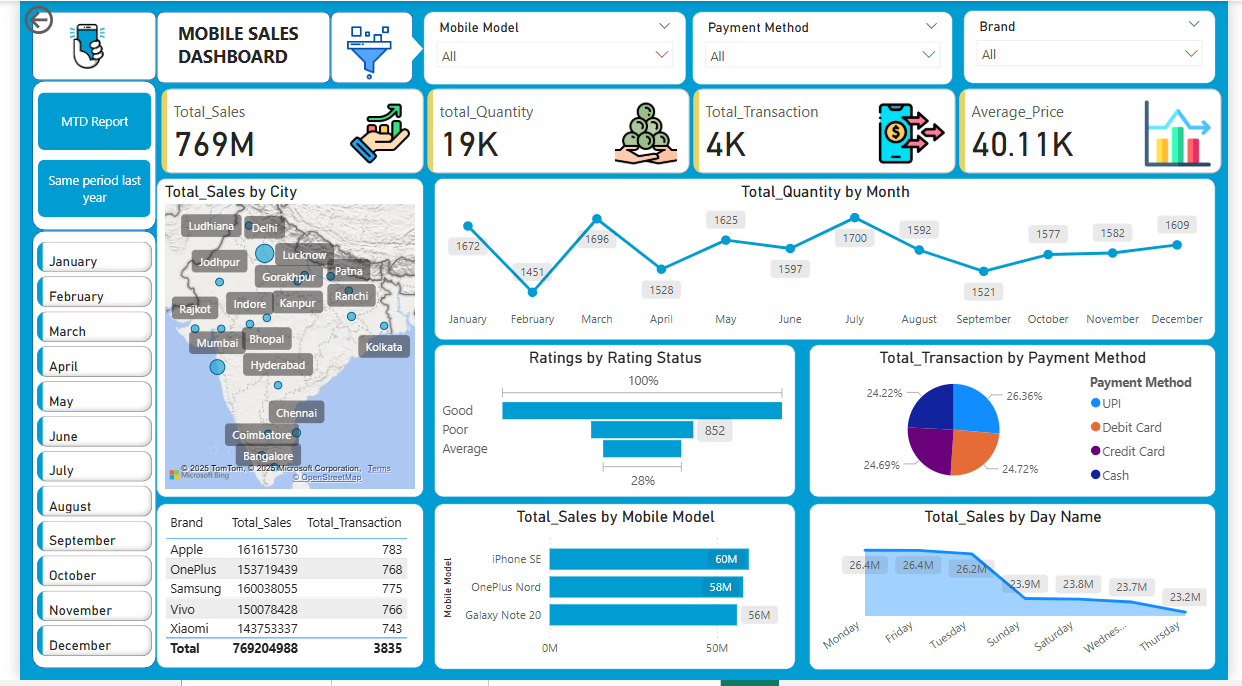

This screenshot's page, from the dashboard's own definition file:
{"tool":"powerbi","page":{"name":"Dashboard","canvas":[1280,720],"ordinal":0},"visuals":[{"type":"shape","box":[12.7,11.1,132,73.2],"z":0},{"type":"image","box":[12.7,11.1,117.7,73.2],"z":1000},{"type":"shape","box":[12.7,84.3,132,159.1],"z":2000},{"type":"shape","box":[12.7,243.4,132,464.5],"z":3000},{"type":"advancedSlicerVisual","fields":{"Values":["custom_calendar.Date.Variation.Date Hierarchy.Month"]},"box":[12.7,249.7,132,458.1],"z":4000},{"type":"cardVisual","fields":{"Data":["Mobile _Sales_ Data.Total_Sales","Mobile _Sales_ Data.total_Quantity","Mobile _Sales_ Data.Total_Transaction","Mobile _Sales_ Data.Average_Price"]},"box":[144.7,87.5,1135.7,100.2],"z":5000},{"type":"slicer","fields":{"Values":["Mobile _Sales_ Data.Mobile Model"]},"box":[427.9,11.1,278.4,77.9],"z":6000},{"type":"slicer","fields":{"Values":["Mobile _Sales_ Data.Payment Method"]},"box":[712.6,11.1,276.8,77.9],"z":7000},{"type":"slicer","fields":{"Values":["Mobile _Sales_ Data.Brand"]},"box":[1000.5,9.5,267.2,77.9],"z":8000},{"type":"shape","box":[329.3,11.1,87.5,76.3],"z":9000},{"type":"image","box":[313.4,20.7,114.5,68.4],"z":10000},{"type":"shape","box":[396.1,33.4,31.8,35],"z":11000},{"type":"shape","box":[144.7,11.1,184.5,76.3],"z":12000},{"type":"textbox","box":[162.2,15.9,149.5,65.2],"z":13000},{"type":"map","fields":{"Category":["Mobile _Sales_ Data.City"],"Size":["Mobile _Sales_ Data.Total_Sales"]},"box":[144.7,187.7,283.1,338.8],"z":14000},{"type":"lineChart","title":"Total_Quantity by Month","fields":{"Category":["custom_calendar.Date.Variation.Date Hierarchy.Month"],"Y":["Mobile _Sales_ Data.total_Quantity"]},"box":[439,187.7,828.7,171.8],"z":15000},{"type":"funnel","title":"Ratings by Rating Status","fields":{"Y":["CountNonNull(Mobile _Sales_ Data.Customer Ratings)"],"Category":["Mobile _Sales_ Data.Rating Status"]},"box":[439,364.2,383.3,162.2],"z":16000},{"type":"pieChart","fields":{"Y":["Mobile _Sales_ Data.Total_Transaction"],"Category":["Mobile _Sales_ Data.Payment Method"]},"box":[836.7,364.2,431.1,162.2],"z":17000},{"type":"clusteredBarChart","fields":{"Y":["Mobile _Sales_ Data.Total_Sales"],"Category":["Mobile _Sales_ Data.Mobile Model"]},"box":[438.4,532.9,383.6,175.7],"z":18000},{"type":"areaChart","fields":{"Category":["custom_calendar.Day Name"],"Y":["Mobile _Sales_ Data.Total_Sales"]},"box":[836.7,532.9,431.1,176.6],"z":19000},{"type":"tableEx","fields":{"Values":["Mobile _Sales_ Data.Brand","Mobile _Sales_ Data.Total_Sales","Mobile _Sales_ Data.Total_Transaction"]},"box":[144.7,532.9,283.1,175],"z":20000},{"type":"actionButton","box":[0,0,100,40],"z":21000},{"type":"pageNavigator","box":[19.1,97,120.9,133.6],"z":22000}]}

Visuals, with their boxes in screenshot pixels (x1, y1, x2, y2), scaled from the page's 1280x720 canvas onto the 1242x686 screenshot:
shape: select_region(12, 11, 140, 80)
image: select_region(12, 11, 127, 80)
shape: select_region(12, 80, 140, 232)
shape: select_region(12, 232, 140, 674)
advancedSlicerVisual - custom_calendar.Date.Variation.Date Hierarchy.Month: select_region(12, 238, 140, 674)
cardVisual - Mobile _Sales_ Data.Total_Sales x Mobile _Sales_ Data.total_Quantity: select_region(140, 83, 1241, 179)
slicer - Mobile _Sales_ Data.Mobile Model: select_region(415, 11, 685, 85)
slicer - Mobile _Sales_ Data.Payment Method: select_region(691, 11, 960, 85)
slicer - Mobile _Sales_ Data.Brand: select_region(971, 9, 1230, 83)
shape: select_region(320, 11, 404, 83)
image: select_region(304, 20, 415, 85)
shape: select_region(384, 32, 415, 65)
shape: select_region(140, 11, 319, 83)
textbox: select_region(157, 15, 302, 77)
map - Mobile _Sales_ Data.City x Mobile _Sales_ Data.Total_Sales: select_region(140, 179, 415, 502)
"Total_Quantity by Month" lineChart: select_region(426, 179, 1230, 343)
"Ratings by Rating Status" funnel: select_region(426, 347, 798, 502)
pieChart - Mobile _Sales_ Data.Total_Transaction x Mobile _Sales_ Data.Payment Method: select_region(812, 347, 1230, 502)
clusteredBarChart - Mobile _Sales_ Data.Total_Sales x Mobile _Sales_ Data.Mobile Model: select_region(425, 508, 798, 675)
areaChart - custom_calendar.Day Name x Mobile _Sales_ Data.Total_Sales: select_region(812, 508, 1230, 676)
tableEx - Mobile _Sales_ Data.Brand x Mobile _Sales_ Data.Total_Sales: select_region(140, 508, 415, 674)
actionButton: select_region(0, 0, 97, 38)
pageNavigator: select_region(19, 92, 136, 220)
